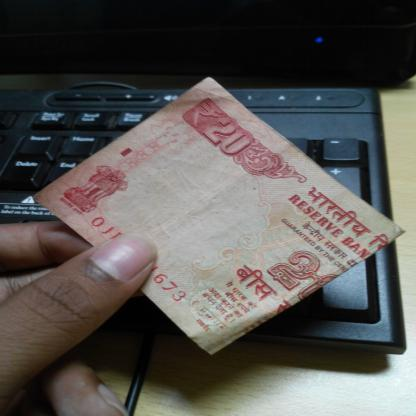Old20Front: (56, 83, 372, 347)
